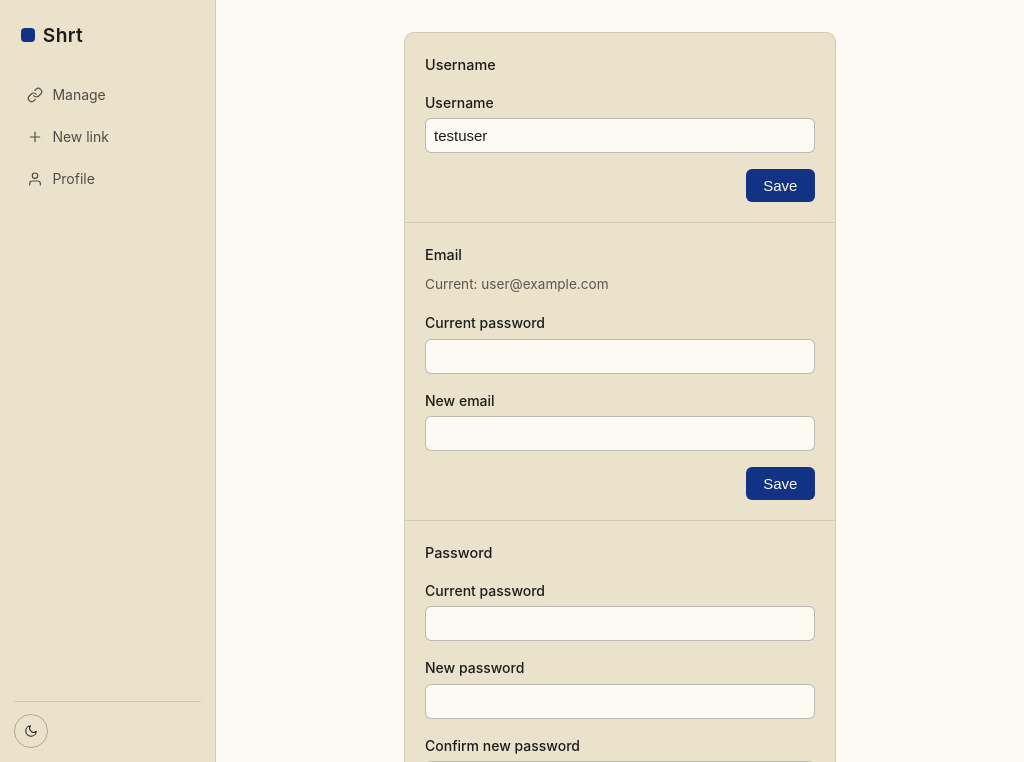
Test: ProfileView email section › shows success message and clears inputs on successful save
This screenshot has width=1024, height=762.
Type "currentpass123" into the password field labelled "Current password" below "Current: user@example.com" at x=620, y=356, box left=425, top=339, right=815, bottom=374
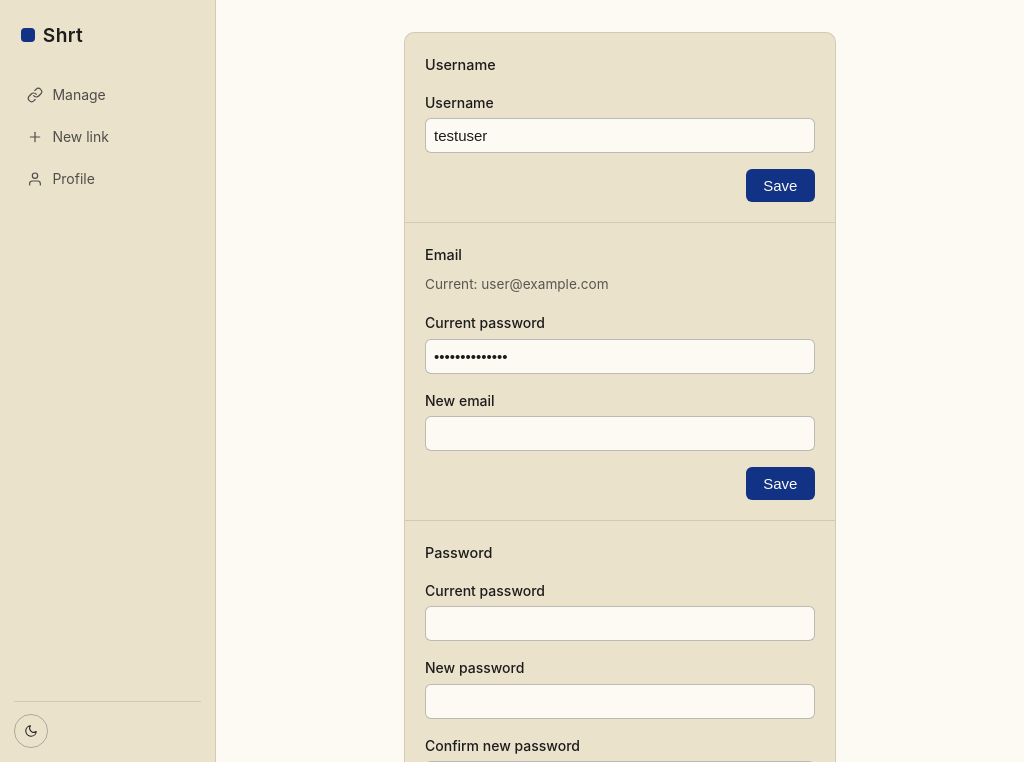
Type "new@example.com" into the field labelled "New email" at x=620, y=434, box left=425, top=416, right=815, bottom=451
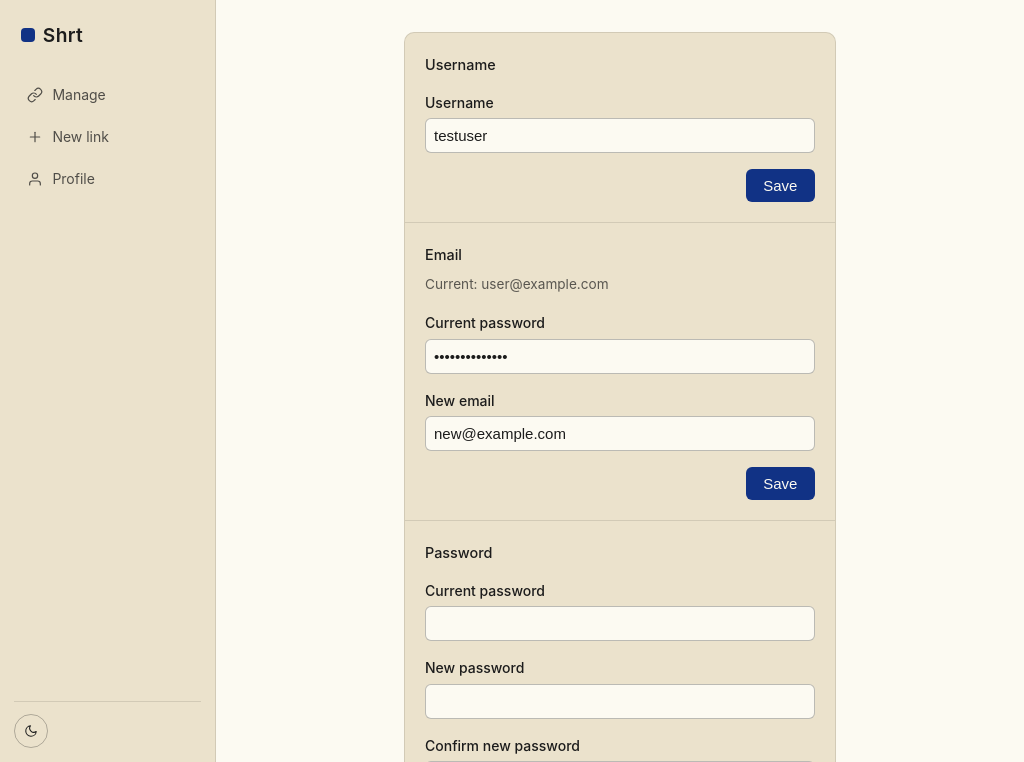
Submit the form "Current password New email Save", box left=425, top=312, right=815, bottom=500
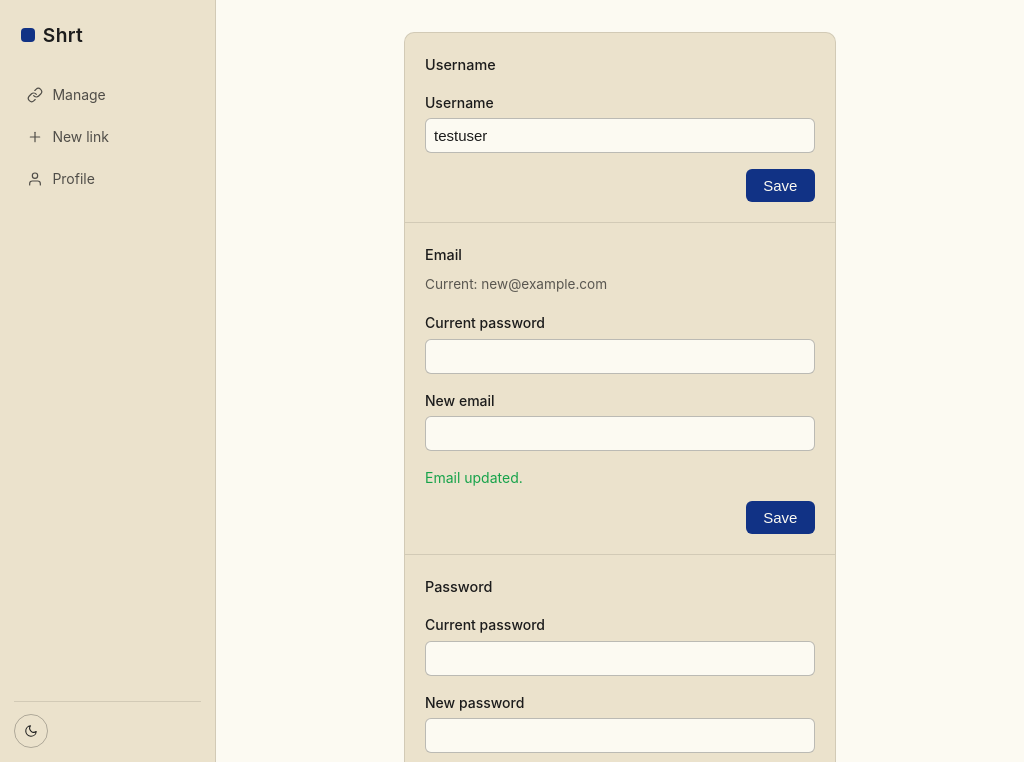
Now the text "Email updated." is shown, box left=425, top=469, right=523, bottom=486
Now the field labelled "New email" is empty, box left=425, top=416, right=815, bottom=451
